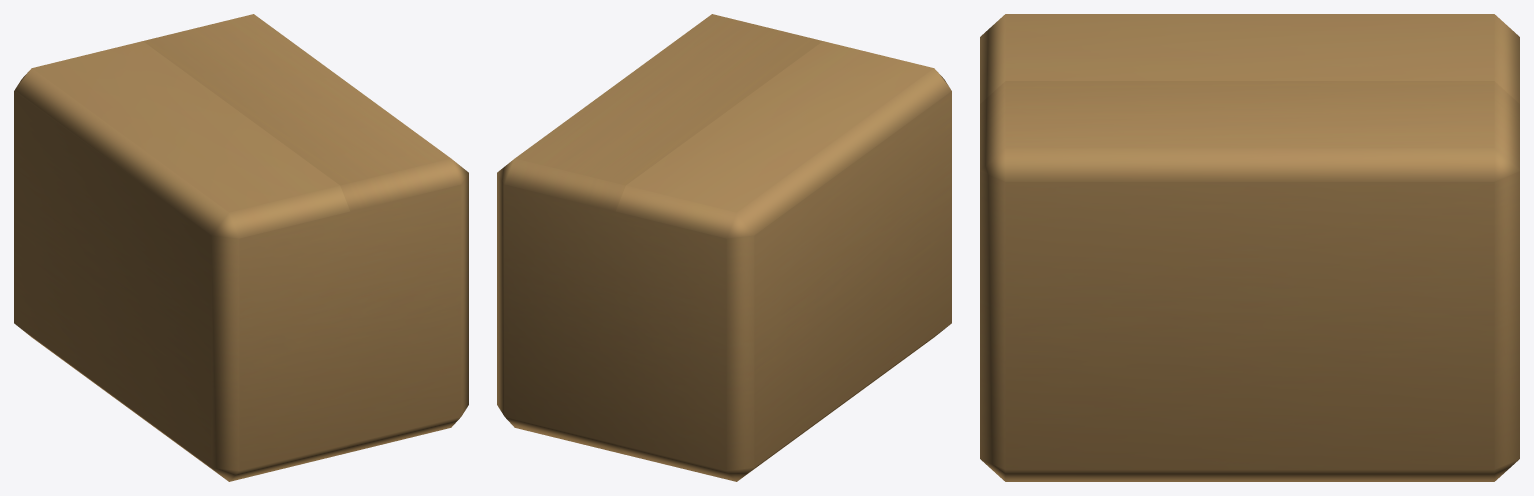
Rendered from box_cardboard_rectangle_closed.fbx.
The picture shows the model from 3 angles, left to right: view 1: azimuth 30°, elevation 25°; view 2: azimuth 150°, elevation 25°; view 3: azimuth 270°, elevation 25°; orthographic projection. The views are drawn at different scales.
Visible parts, largest first — view 1: box_cardboard_rectangle_closed; view 2: box_cardboard_rectangle_closed; view 3: box_cardboard_rectangle_closed.
Part boxes in pixels (x1,y1,x2,y2): box_cardboard_rectangle_closed: (14, 14, 468, 481); box_cardboard_rectangle_closed: (497, 14, 951, 481); box_cardboard_rectangle_closed: (980, 14, 1519, 481).
Bounding box in the file's own units: 53.69 × 53.69 × 78.69.
